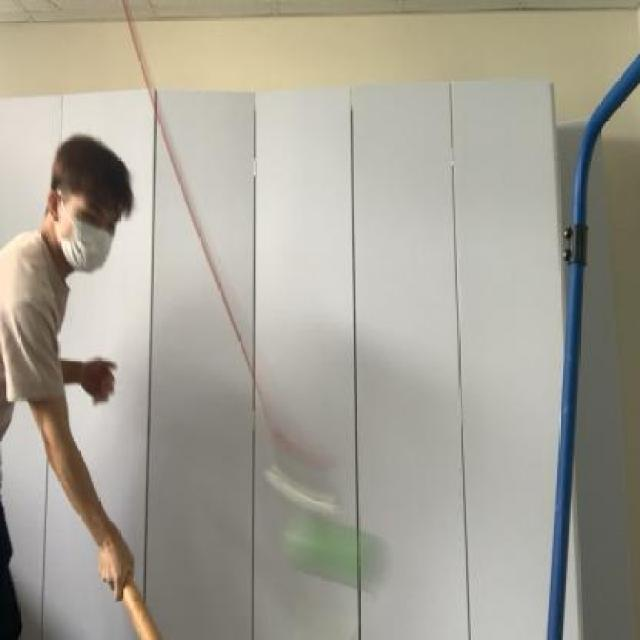baseball: (270, 507, 385, 604)
